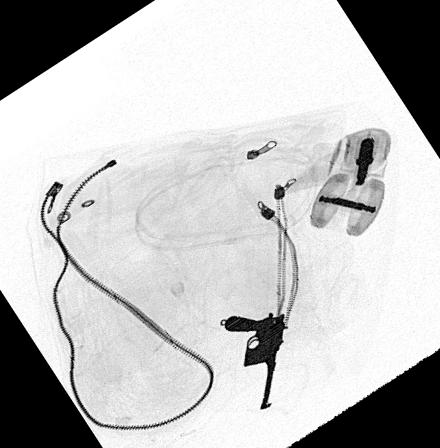Gun: (222, 313, 287, 408)
